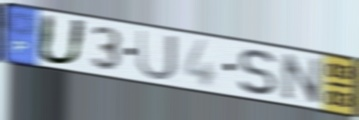3: (89, 25, 123, 72)
4: (183, 37, 221, 90)
N: (280, 51, 323, 106)
S: (237, 48, 279, 98)
U: (34, 12, 90, 67), (136, 28, 179, 82)
